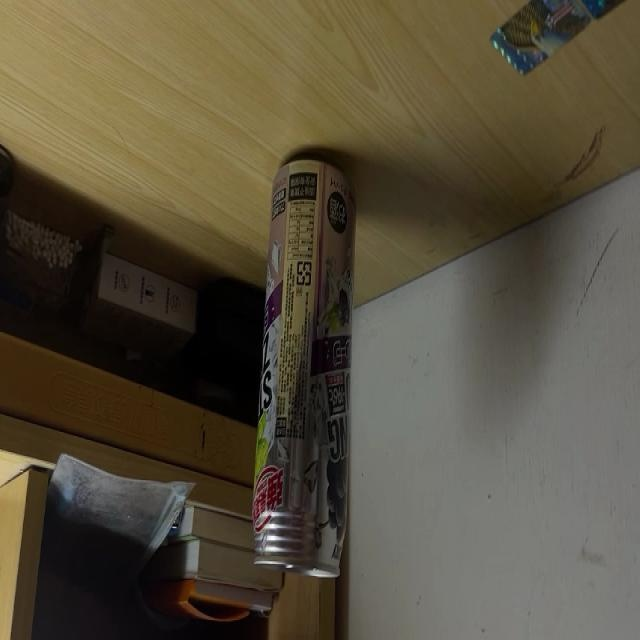Liquor: (251, 152, 358, 576)
